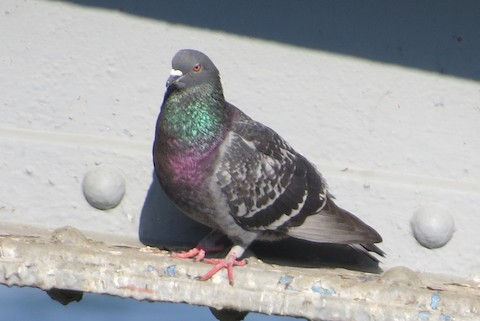pigeon: (150, 43, 391, 287)
